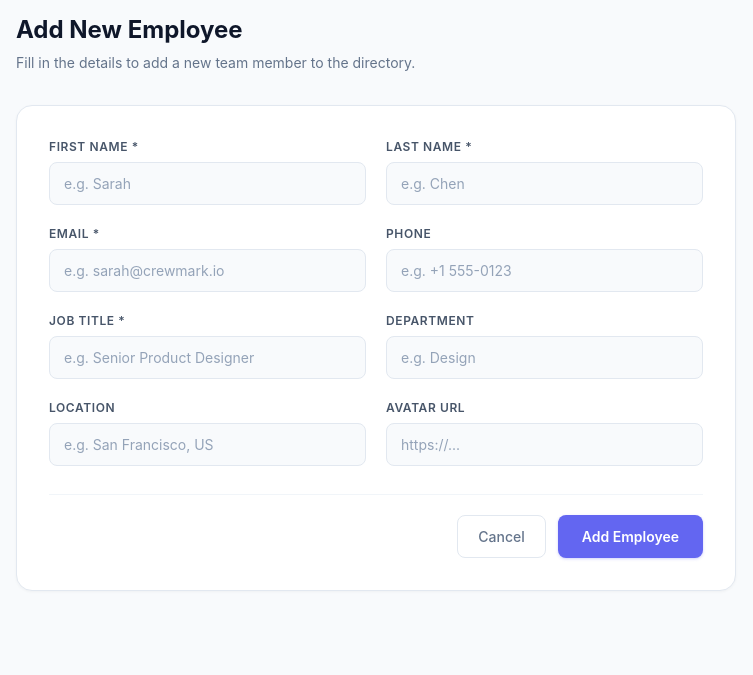
AddEmployee page › shows error on API failure
The image size is (753, 675).
In the field with placeholder "e.g. Sarah": (208,184) [49, 162, 366, 205], type "A"
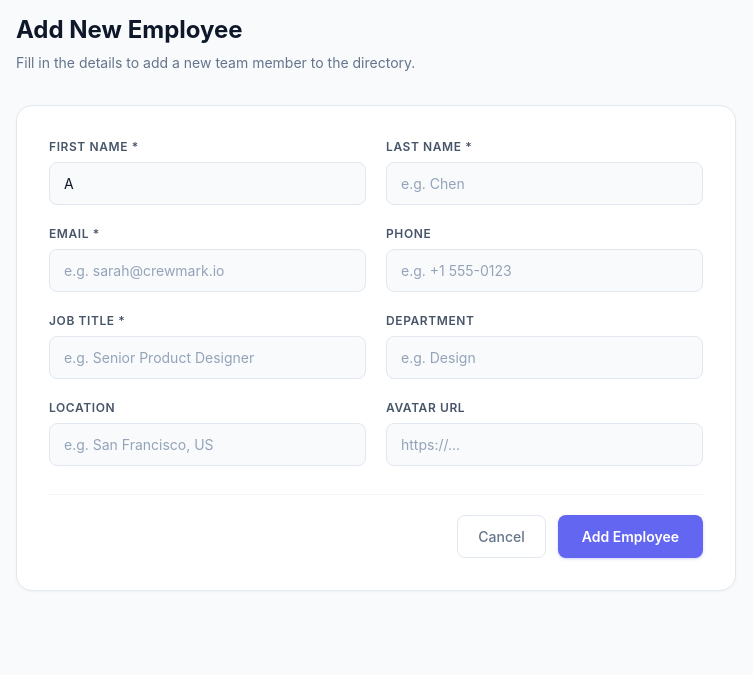
In the field with placeholder "e.g. Chen": (544,184) [386, 162, 703, 205], type "B"
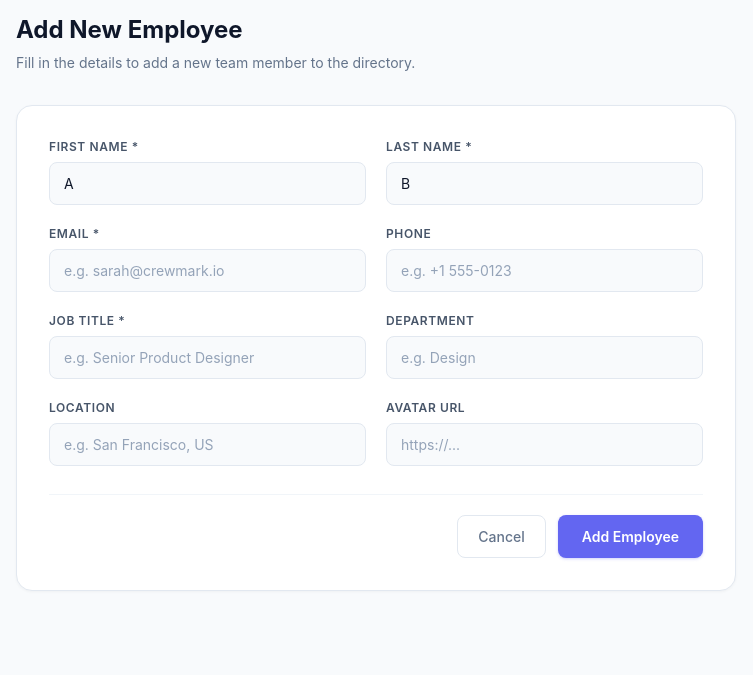
In the field with placeholder "e.g. sarah@crewmark.io": (208,270) [49, 249, 366, 292], type "a@b.c"
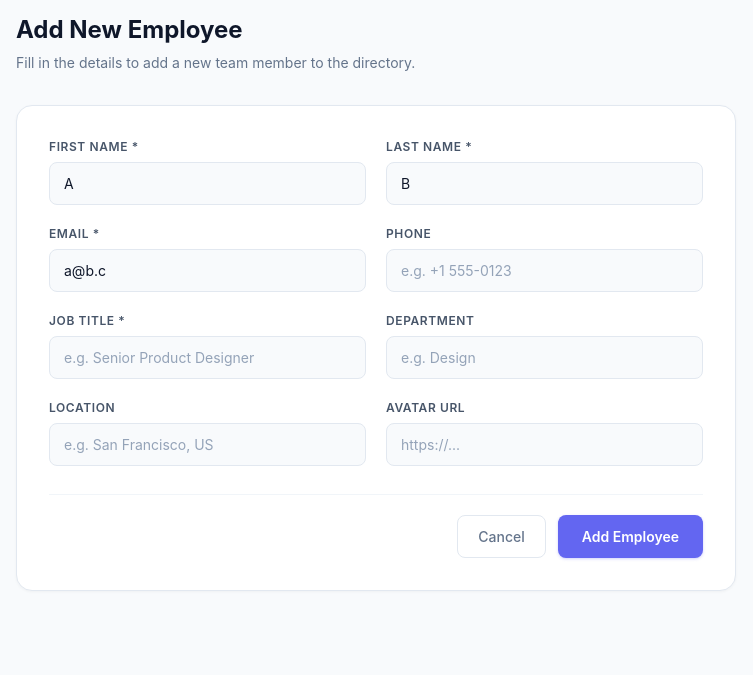
In the field with placeholder "e.g. Senior Product Designer": (208,358) [49, 336, 366, 379], type "Dev"
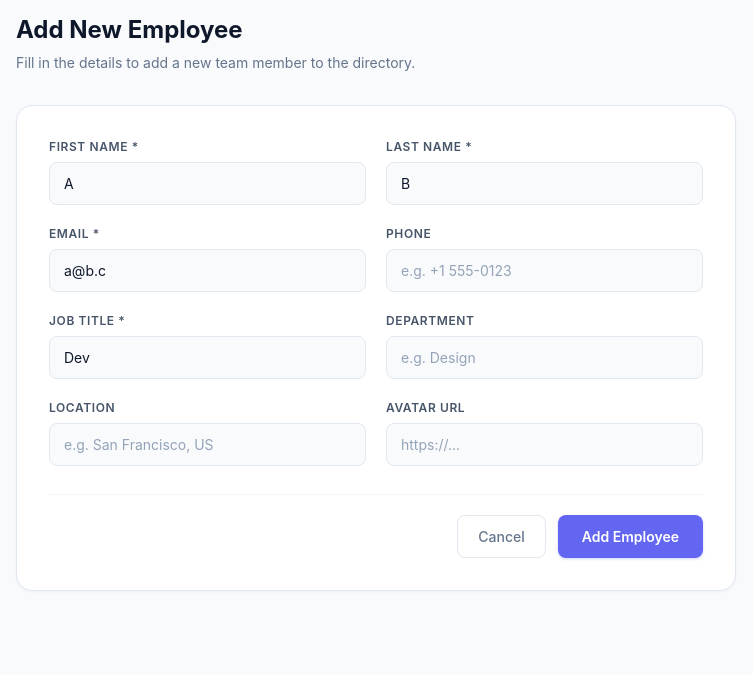
Click the button "Add Employee": (630,536) [558, 515, 703, 558]
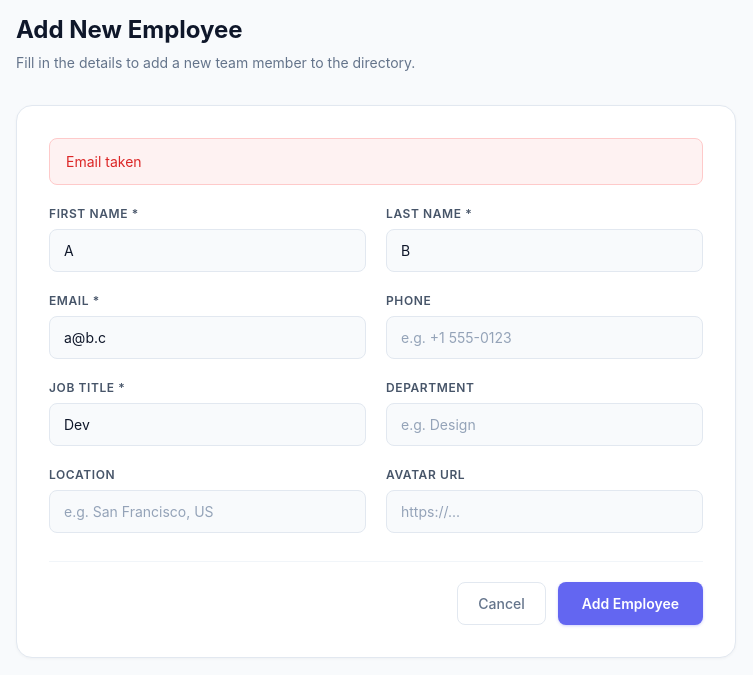
Result: the text "Email taken" is shown at [49, 138, 703, 185]
